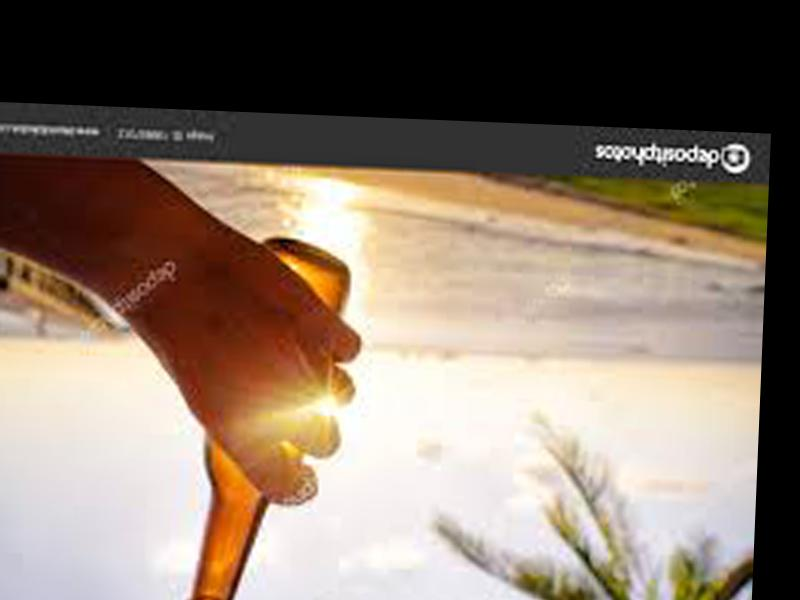Beer: (177, 231, 349, 600)
